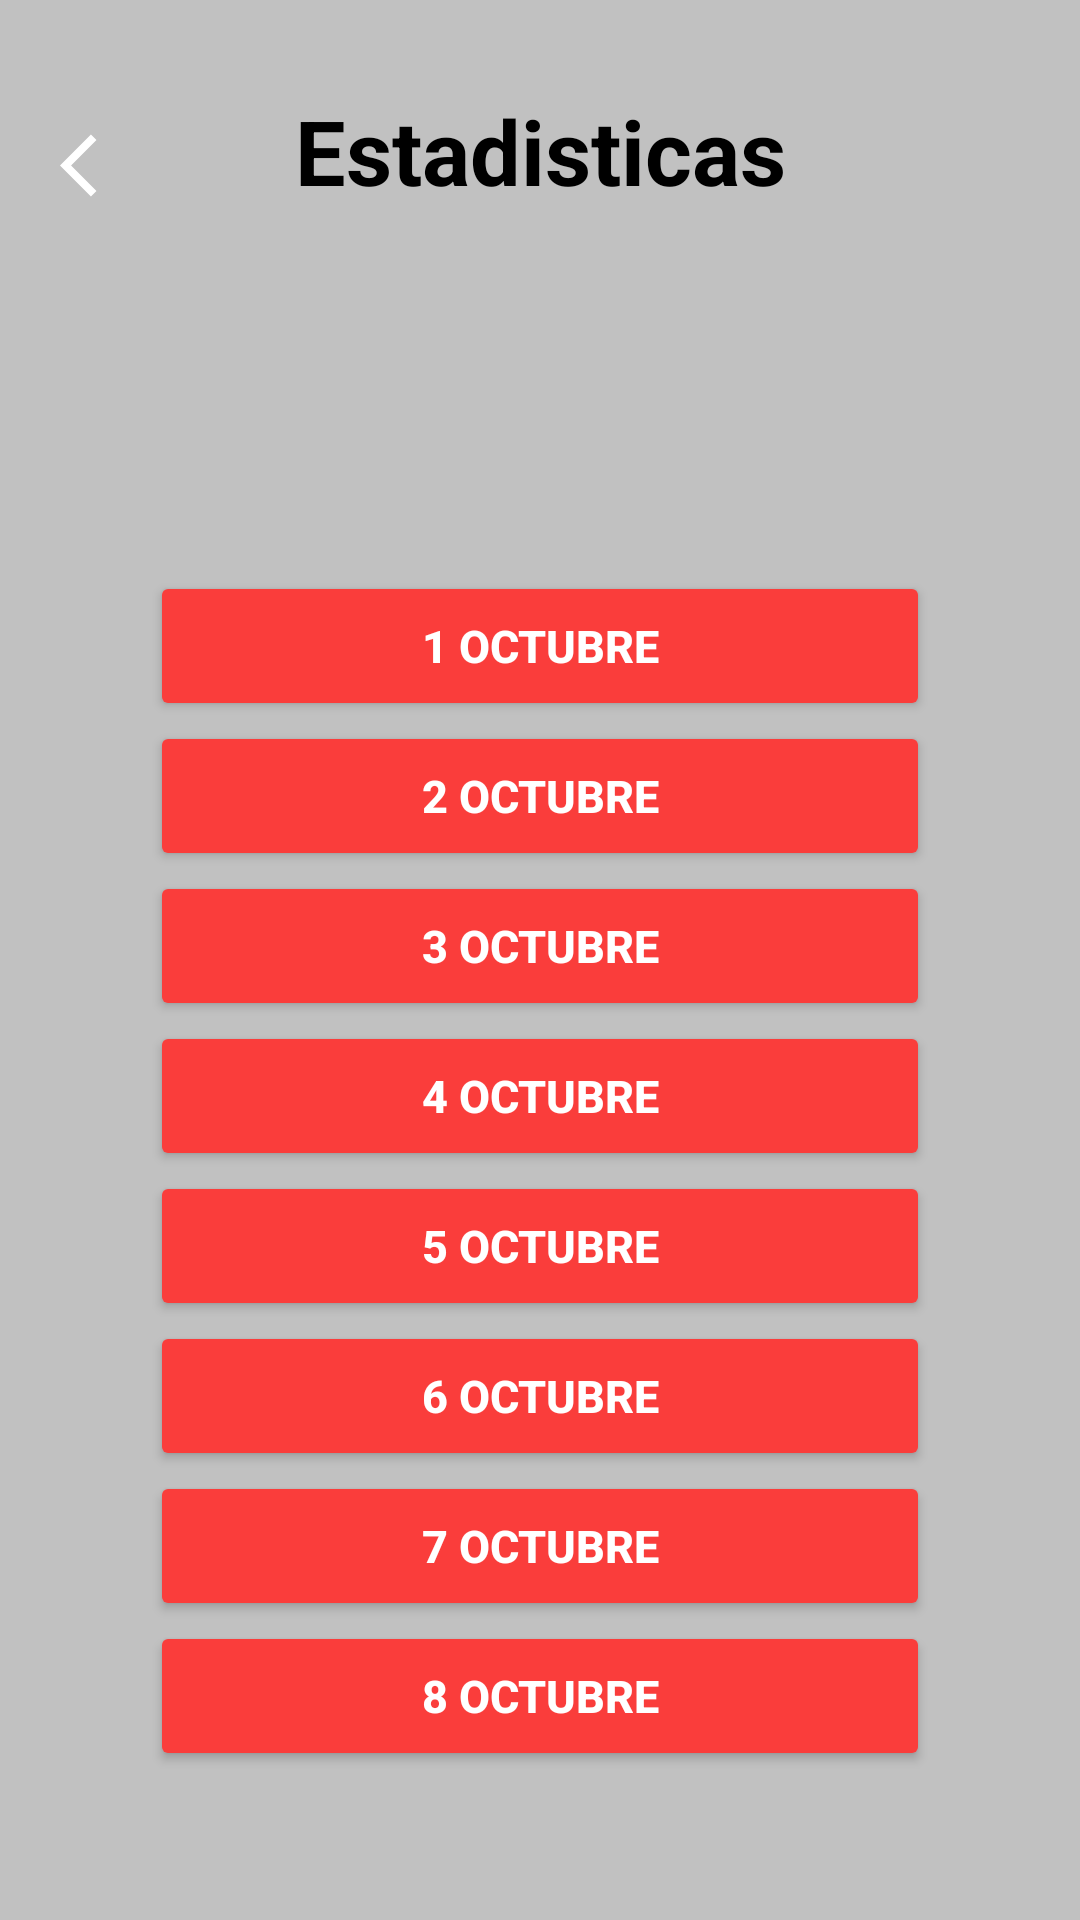

Locate icon controls on the screen. Image size 1080 × 1920, boxes as region(x1, y1, x2, y2).
arrow back: region(60, 135, 96, 196)
